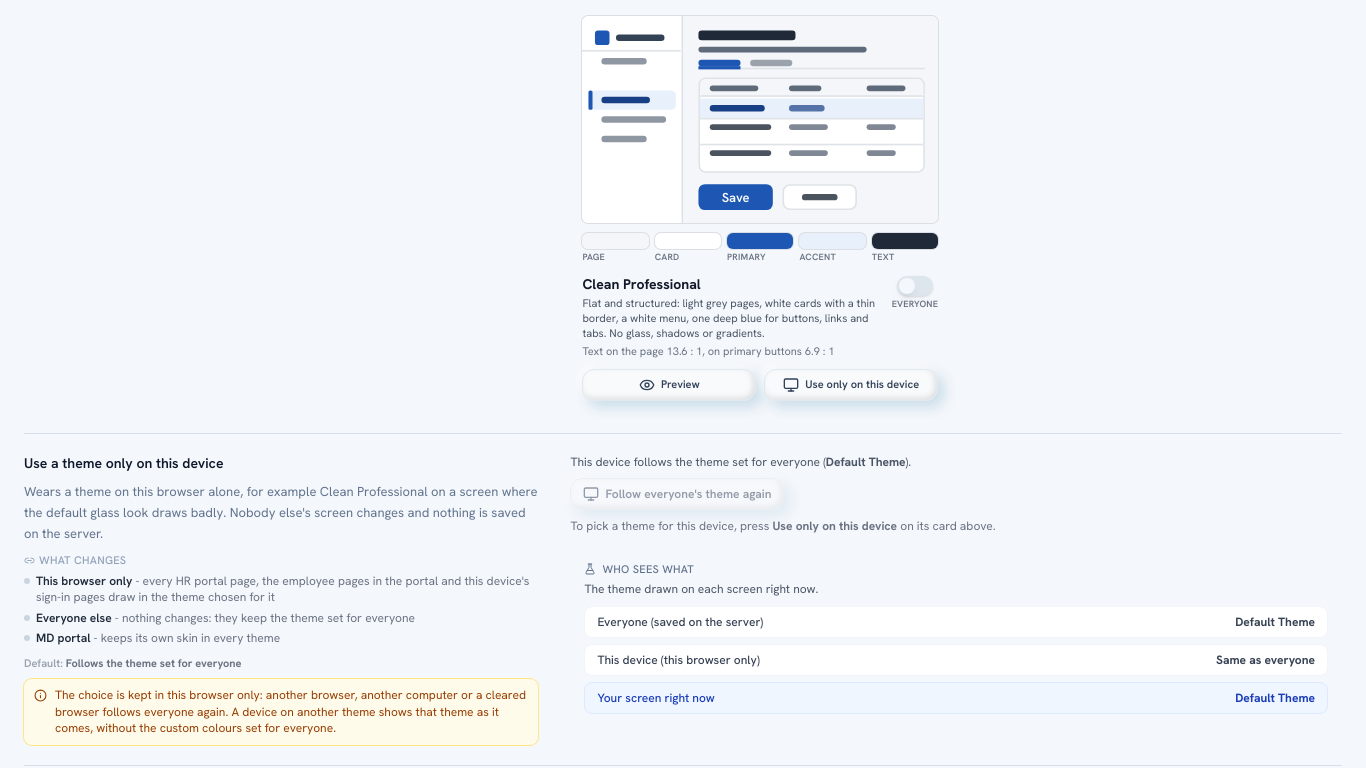
Scenario: Settings -> Themes › uses a theme only on this device: nothing is sent to the server, and the cards say which is which
(page scrolled)
Click the button with test id "theme-device-clean" at (851, 385), box top-left (764, 369), bottom-right (938, 401)
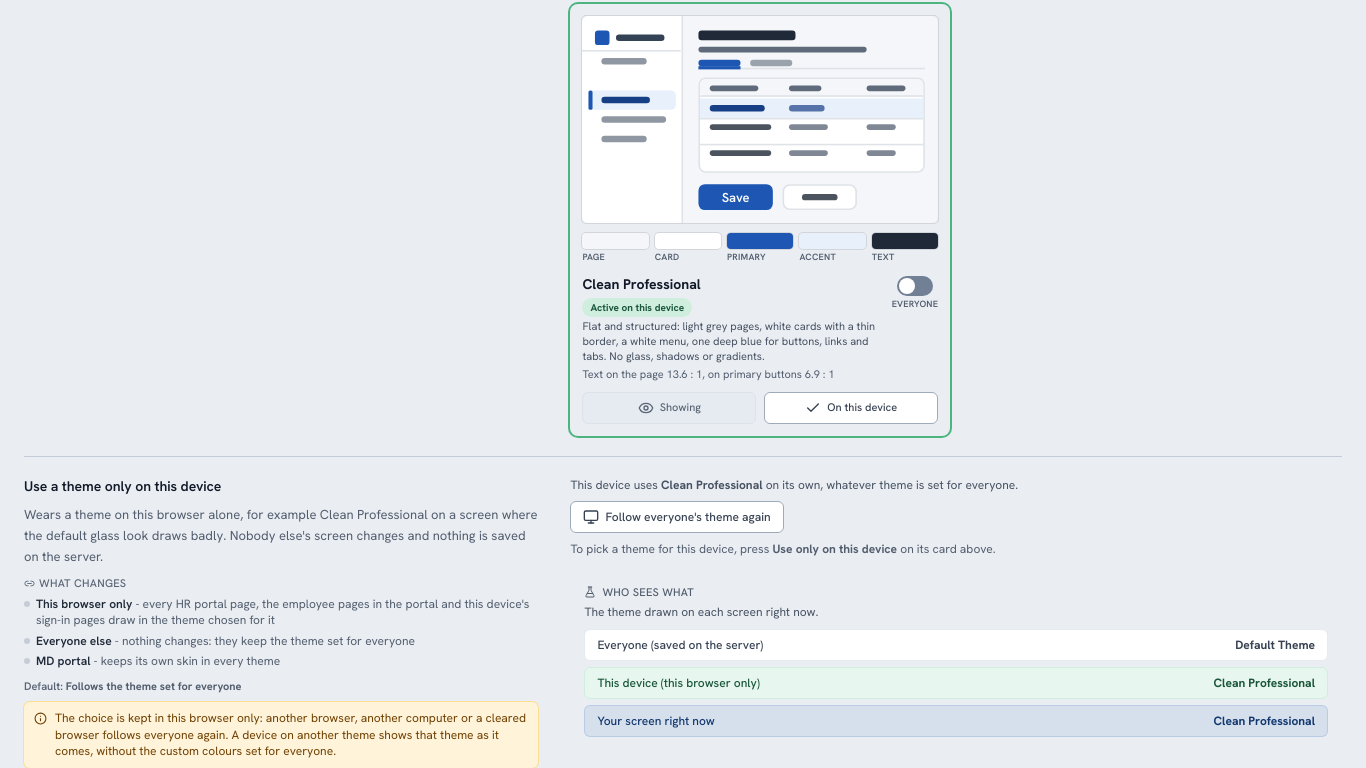
Result: the text with test id "theme-status-device" reads "Active on this device" at top-left (590, 301), bottom-right (684, 314)
Result: the element with test id "theme-device-line" shows "Clean Professional" at top-left (1214, 675), bottom-right (1315, 691)
Result: the element with test id "theme-screen-line" shows "Clean Professional" at top-left (1214, 713), bottom-right (1315, 729)
